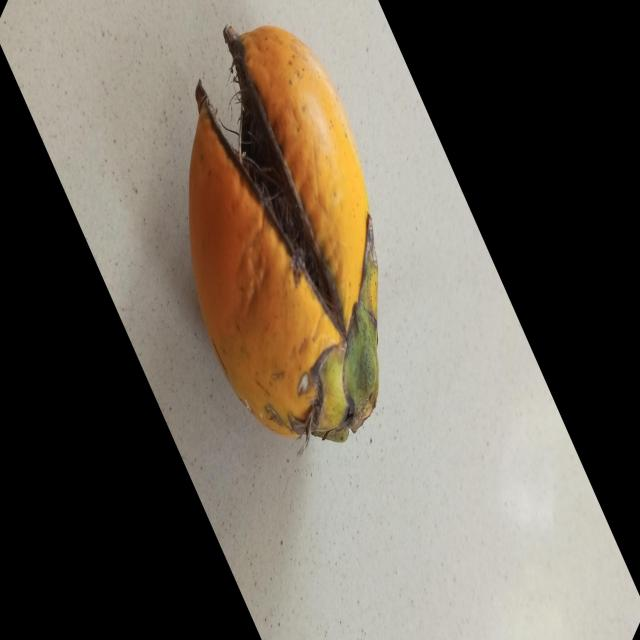damaged: (188, 26, 380, 444)
